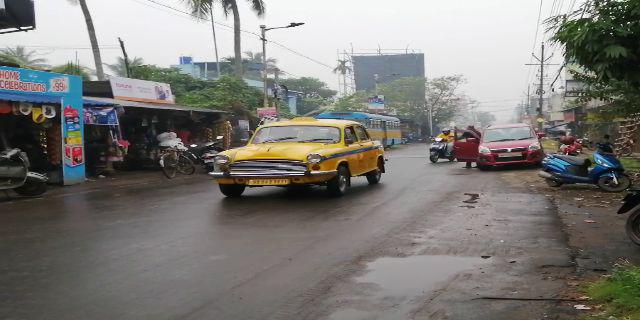Car: (213, 117, 387, 203), (469, 126, 539, 168)
Motorbike: (536, 140, 630, 193), (426, 124, 455, 165)
